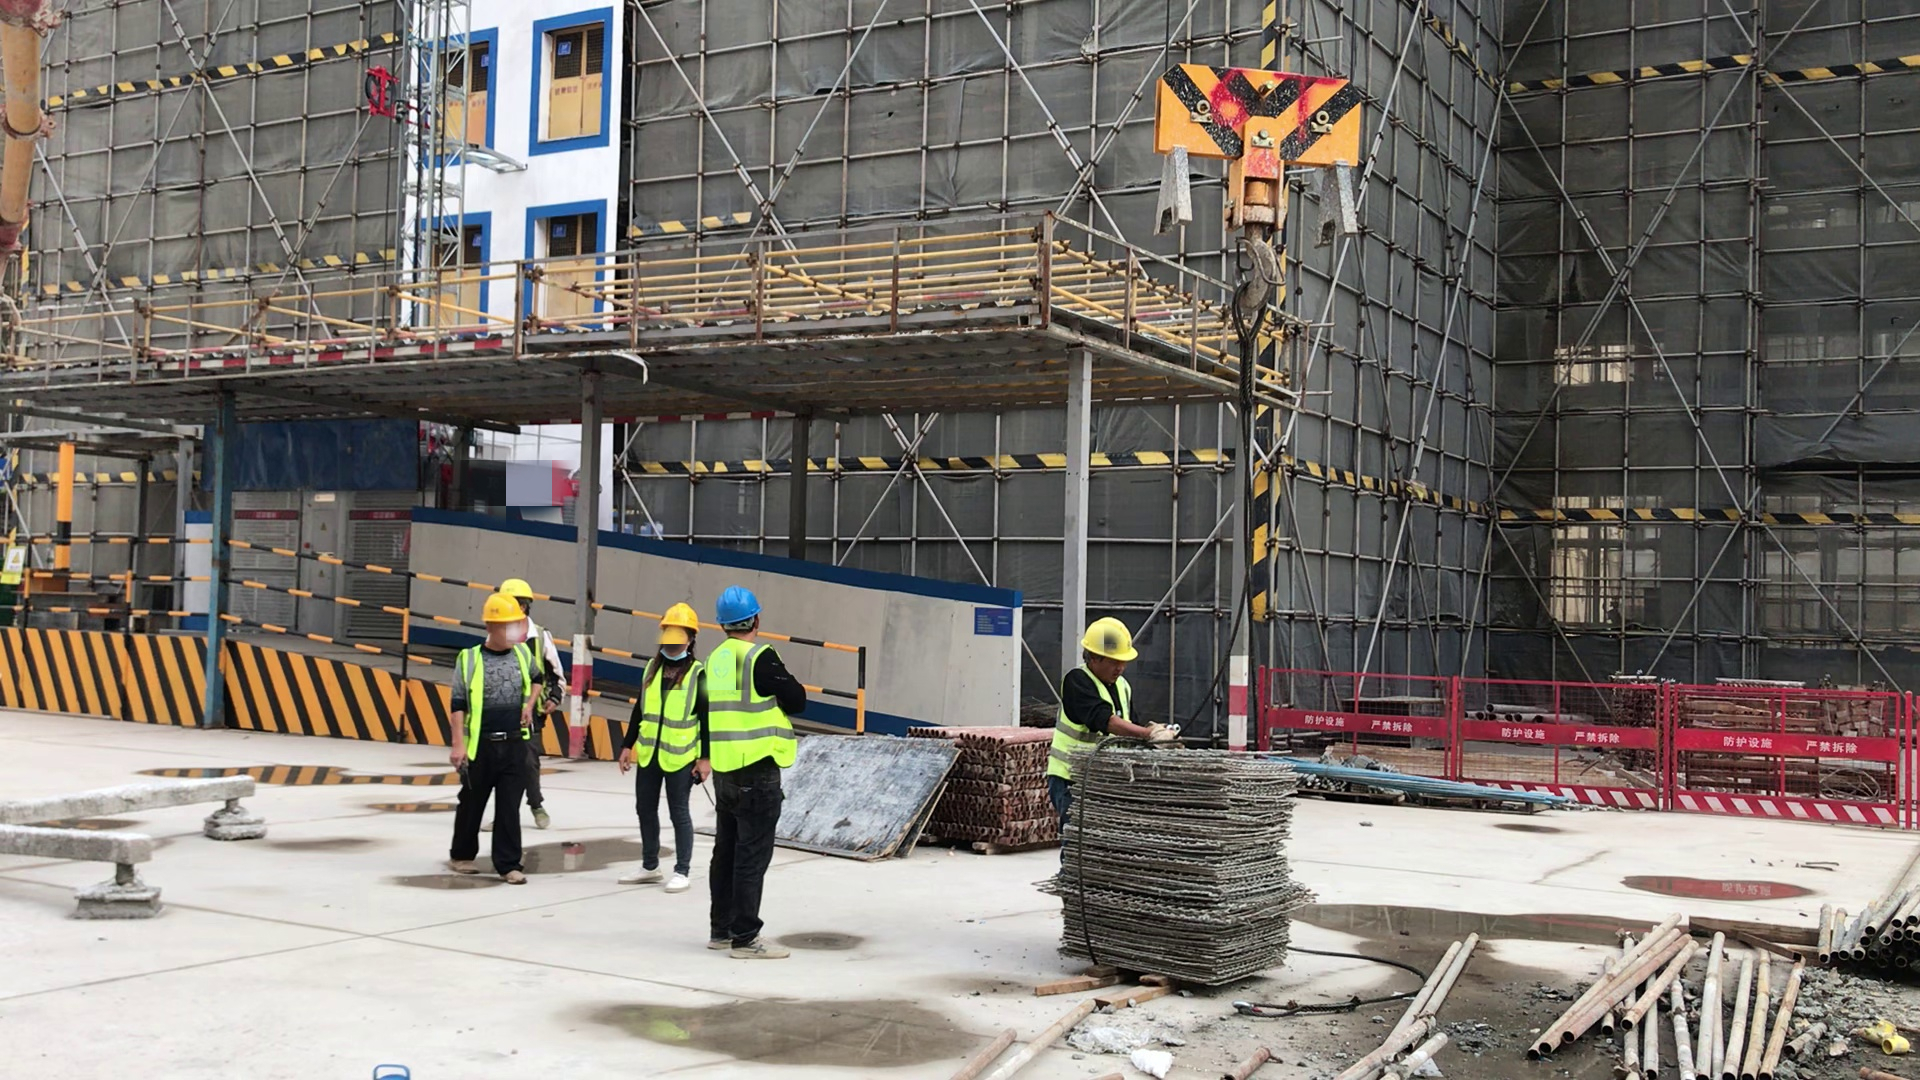fence: (36, 514, 852, 742), (1254, 643, 1920, 819)
helmet: (1081, 616, 1142, 668), (714, 582, 763, 625), (647, 599, 706, 636), (483, 589, 527, 627), (501, 575, 537, 603)
hook: (1124, 35, 1388, 261)
person: (707, 578, 806, 968), (447, 586, 546, 895), (1046, 612, 1179, 841), (627, 596, 701, 893), (508, 568, 559, 827)
scaffold: (1520, 903, 1789, 1071), (923, 717, 1050, 866)
vest: (709, 636, 801, 785), (458, 631, 537, 756), (1060, 651, 1127, 788), (639, 652, 702, 780)
